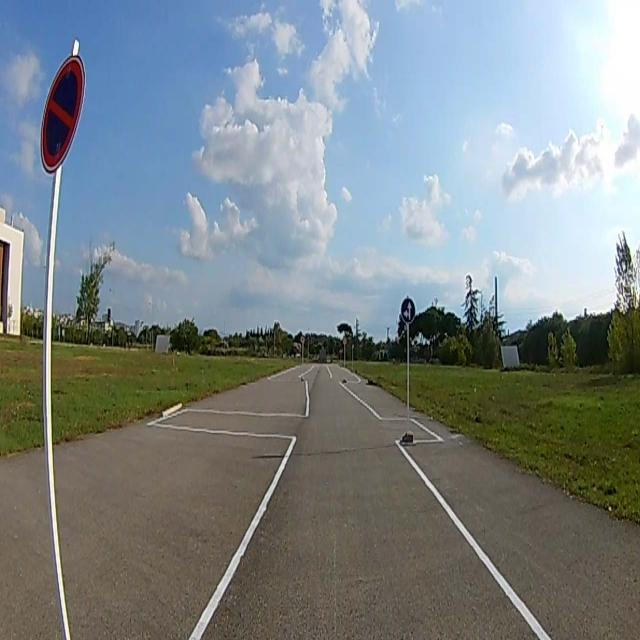ilerisol: (402, 298, 414, 321)
parkyasak: (40, 54, 84, 168)
